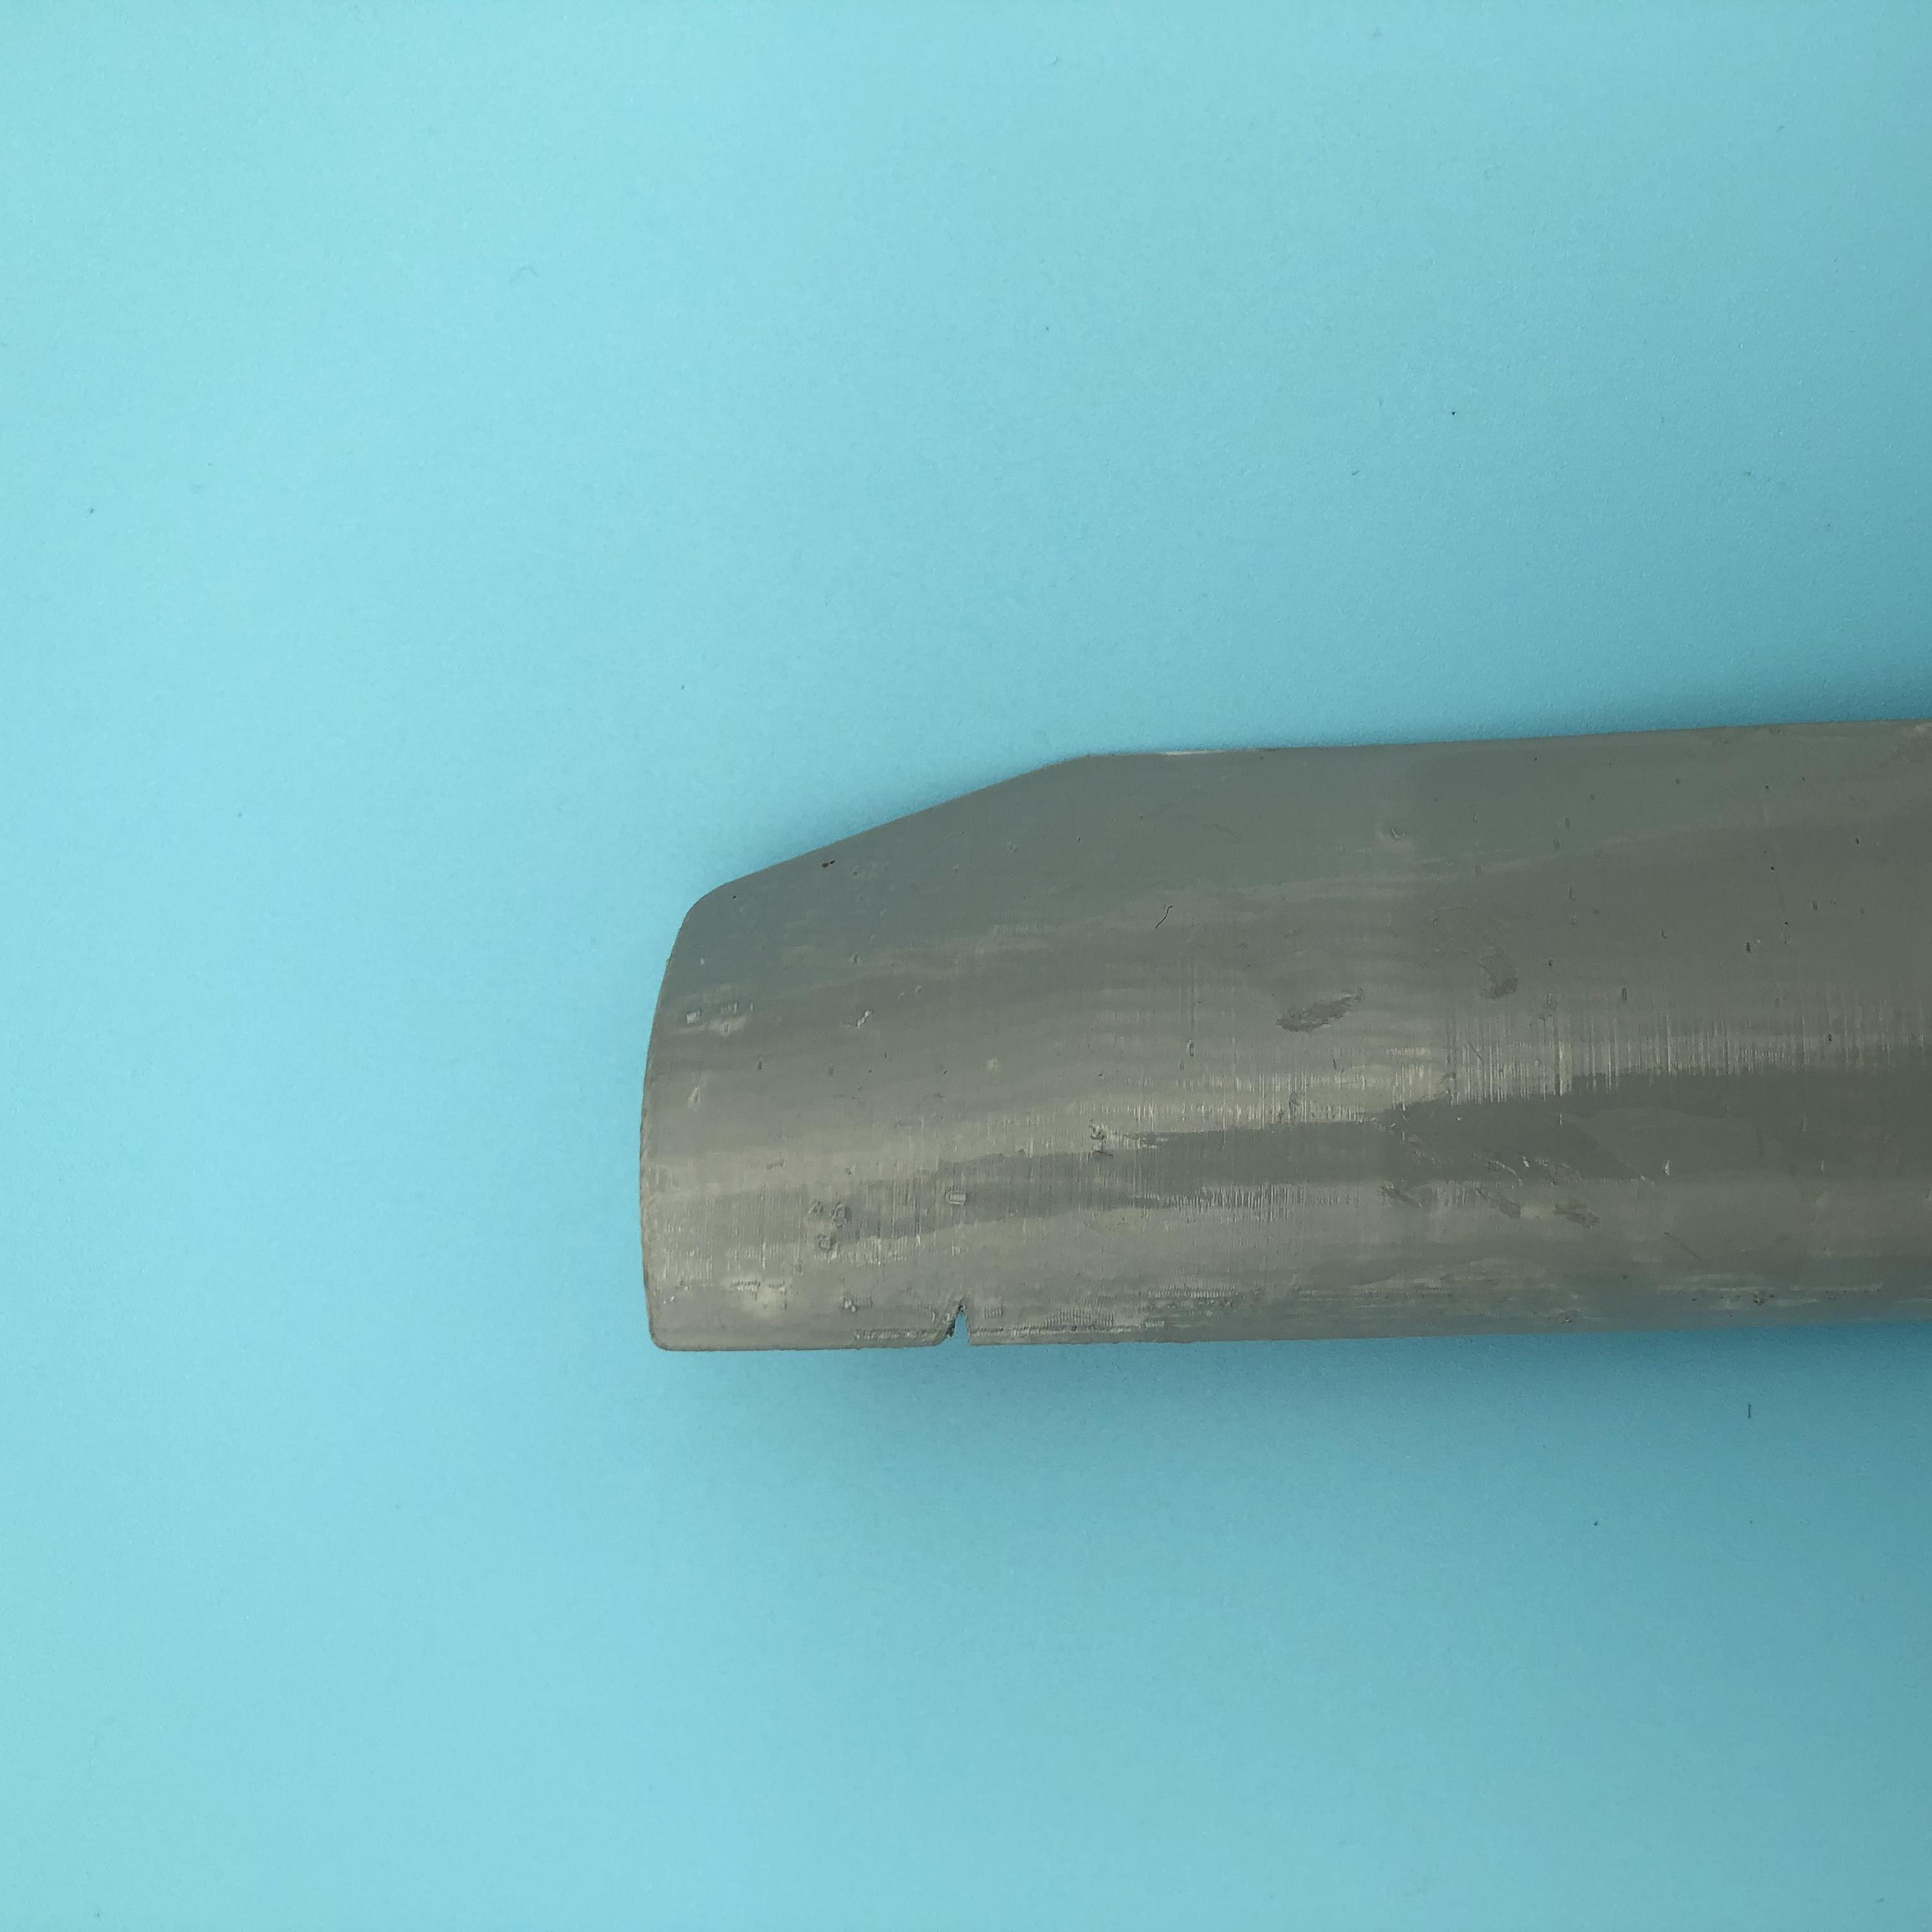groove: (925, 1295, 1007, 1348)
